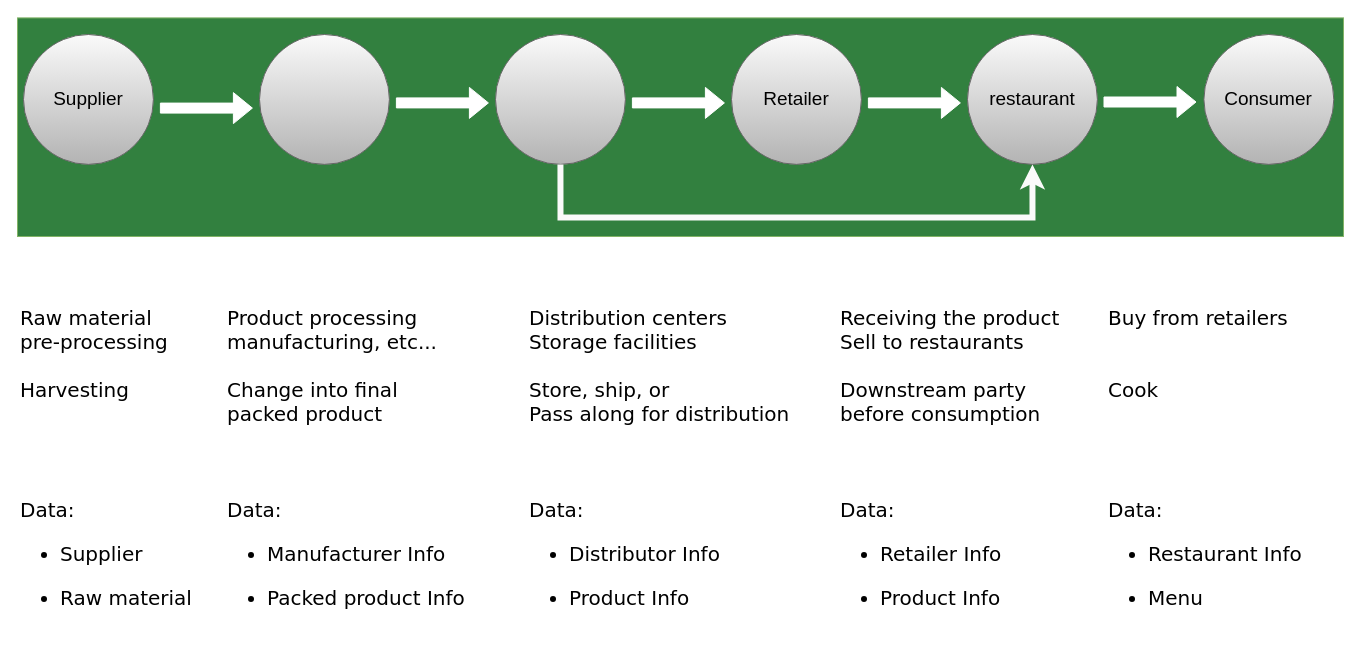
This 1361x662 diagram has some shape labels left out. Here are the shapes that lost their labels. From the top down, the centre of each, then its label:
At (x=323, y=99): "Processor".
At (x=559, y=99): "Distributor".
